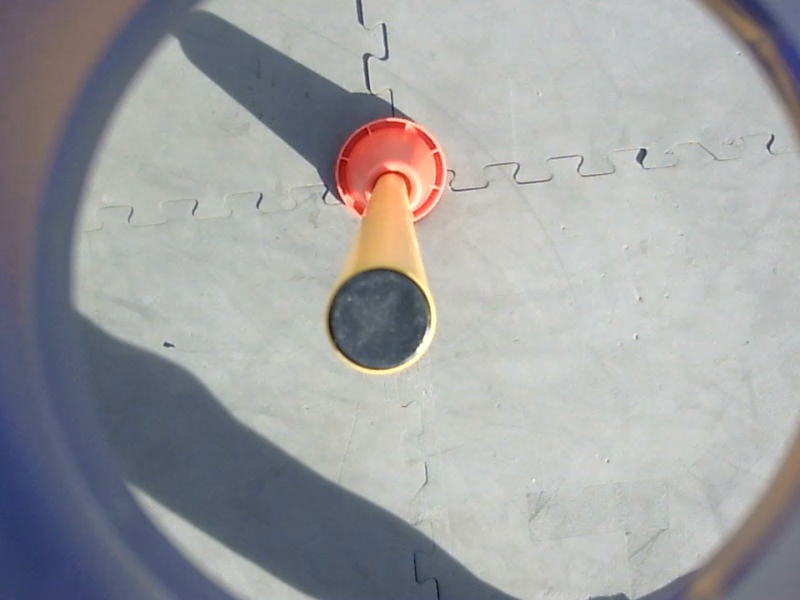tip: (317, 262, 443, 382)
